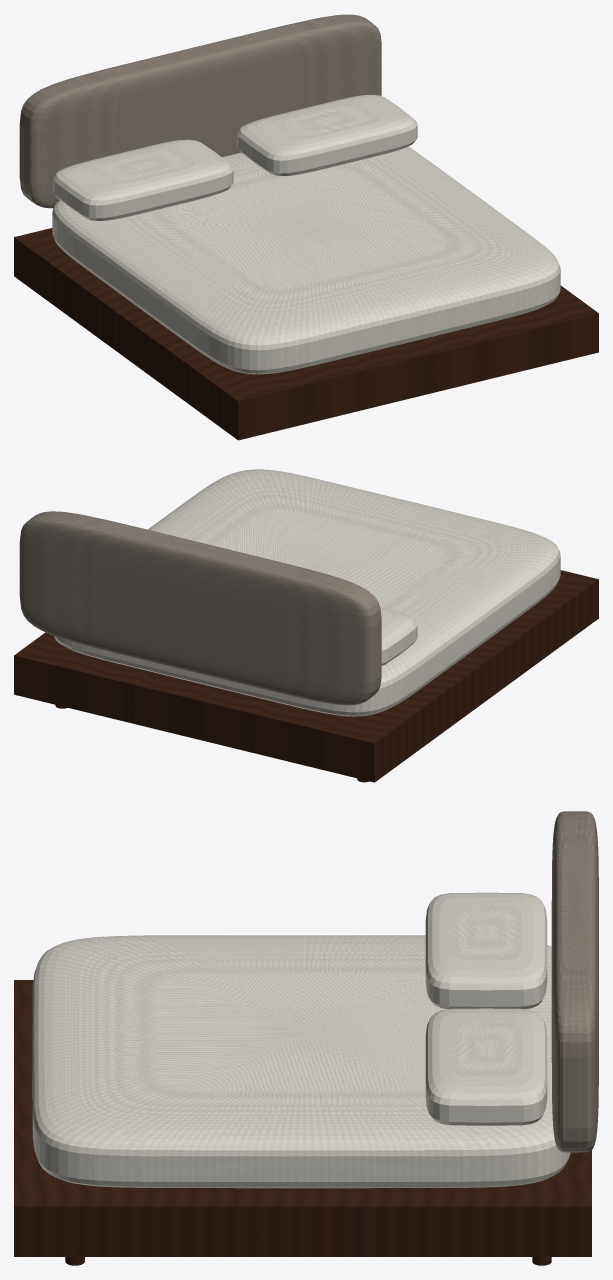
Rendered from bed-180.glb.
The picture shows the model from 3 angles, top to bottom: view 1: azimuth 30°, elevation 25°; view 2: azimuth 150°, elevation 25°; view 3: azimuth 270°, elevation 25°; orthographic projection. The views are drawn at different scales.
Parts seen in each view (by area): view 1: mattress, frame, headboard, pillow_1, pillow_2; view 2: headboard, mattress, frame, pillow_1; view 3: mattress, frame, headboard, pillow_2, pillow_1.
Boxes of the visible parts, left/top/right/bottom form: mattress: left=52, top=146, right=560, bottom=374; frame: left=14, top=228, right=598, bottom=440; headboard: left=19, top=14, right=381, bottom=208; pillow_1: left=53, top=139, right=233, bottom=220; pillow_2: left=237, top=94, right=417, bottom=175; headboard: left=19, top=511, right=381, bottom=705; mattress: left=54, top=469, right=560, bottom=716; frame: left=14, top=570, right=598, bottom=782; pillow_1: left=380, top=607, right=417, bottom=665; mattress: left=32, top=935, right=570, bottom=1188; frame: left=14, top=980, right=591, bottom=1256; headboard: left=551, top=811, right=598, bottom=1152; pillow_2: left=425, top=1008, right=547, bottom=1125; pillow_1: left=425, top=892, right=547, bottom=1008.
Bounding box in the file's own units: 2 × 1.08 × 2.18.
3 materials, 3 textured.
